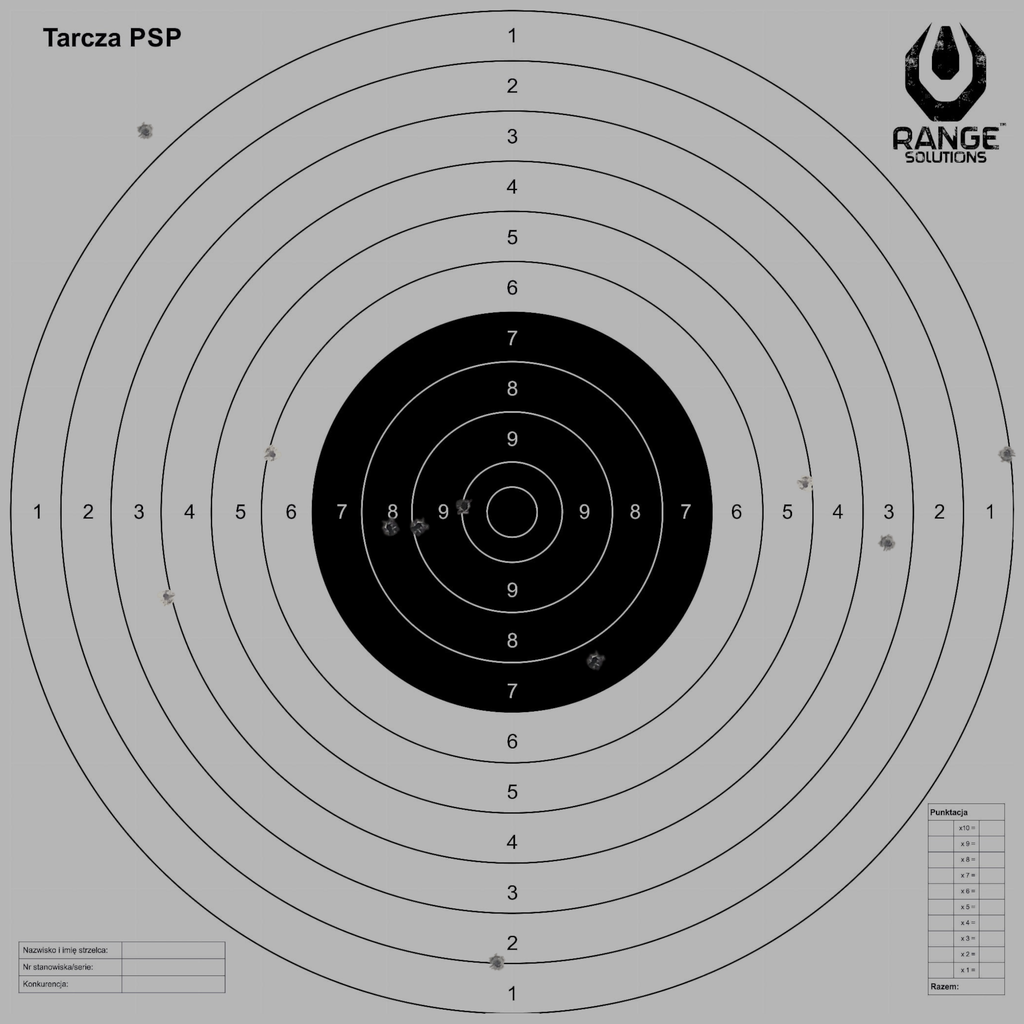0 punktow: (136, 123, 155, 141)
1 punkt: (998, 445, 1016, 463)
10 punktow: (455, 497, 474, 516)
2 punkty: (488, 954, 506, 972)
3 punkty: (878, 534, 897, 552)
4 punkty: (157, 587, 176, 606)
5 punktow: (796, 475, 814, 493)
6 punktow: (263, 445, 281, 464)
7 punktow: (586, 651, 604, 669)
8 punktow: (380, 518, 399, 536)
9 punktow: (410, 517, 428, 535)
